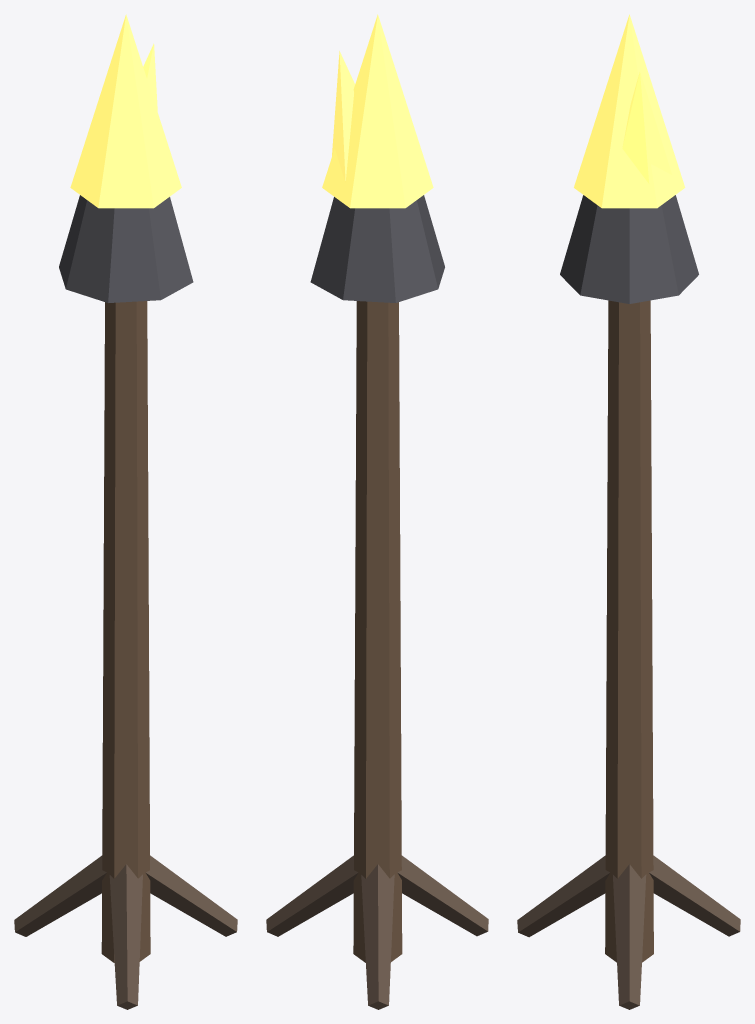
Rendered from torch.glb.
3 renders of one model, left to right at view 1: azimuth 30°, elevation 25°; view 2: azimuth 150°, elevation 25°; view 3: azimuth 270°, elevation 25°, orthographic.
Parts seen in each view (by area): view 1: torch; view 2: torch; view 3: torch.
Part boxes in pixels (x1,y1,x2,y2): torch: (14, 14, 237, 1009); torch: (266, 14, 488, 1009); torch: (517, 14, 740, 1009).
Size of the model in its own units: 0.5721 by 3 by 0.641.
